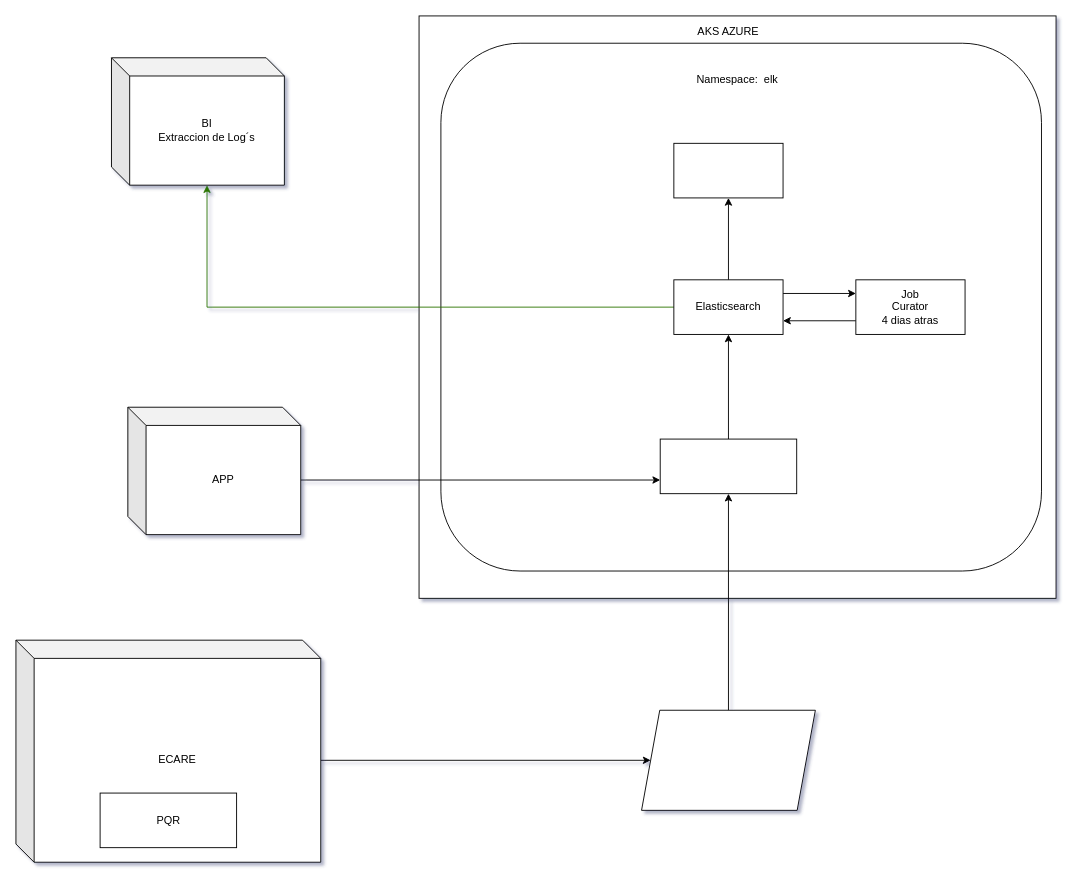
This 1077x884 diagram has some shape labels left out. The shapes that lost their labels are listed below. From the top down, each one's box as (x1, y1, x2, y2) in pixels, then its label:
(673, 142, 783, 198): Kibana 52.224.39.233
(659, 438, 797, 494): Logstash 52.226.40.136:31311
(641, 709, 815, 810): Datapower
